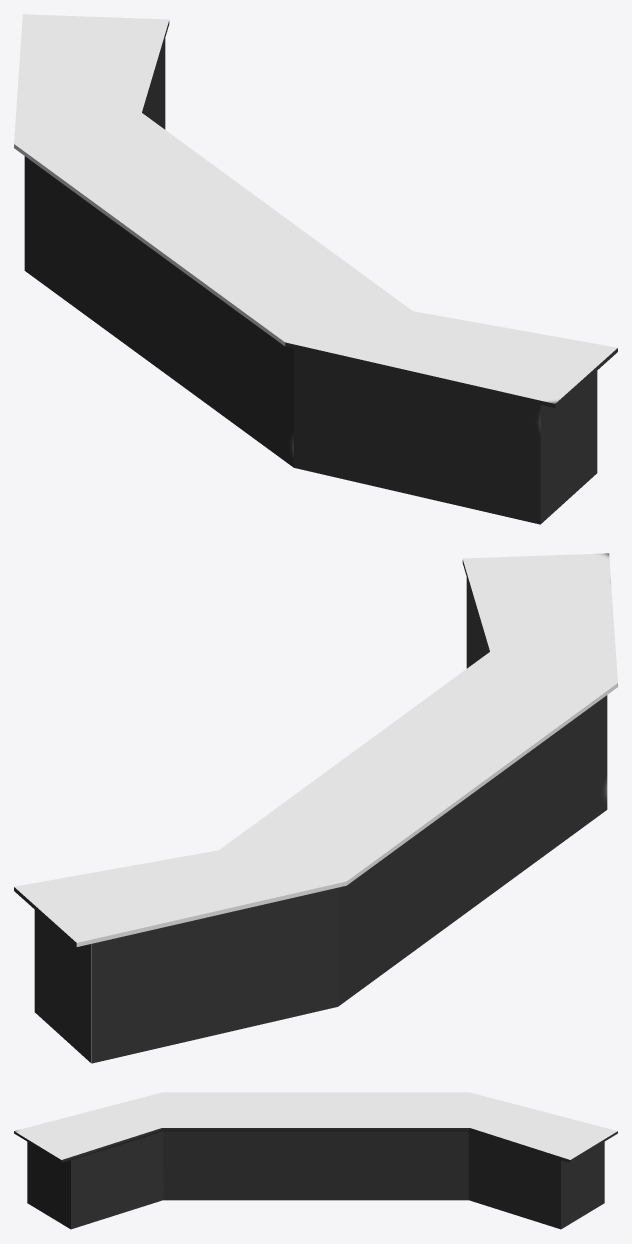
The model's file is Desk.glb.
3 views of the same model, one above another, from view 1: azimuth 30°, elevation 25°; view 2: azimuth 150°, elevation 25°; view 3: azimuth 270°, elevation 25° (orthographic). The views are drawn at different scales.
Visible parts, largest first — view 1: Cube.001; view 2: Cube.001; view 3: Cube.001.
Part boxes in pixels (x1=…): Cube.001: x1=14, y1=14, x2=617, y2=524; Cube.001: x1=14, y1=553, x2=617, y2=1063; Cube.001: x1=14, y1=1092, x2=617, y2=1229.
Size of the model in its own units: 4.2 by 2.11 by 15.87.
Materials: 1 (1 with a texture image).
